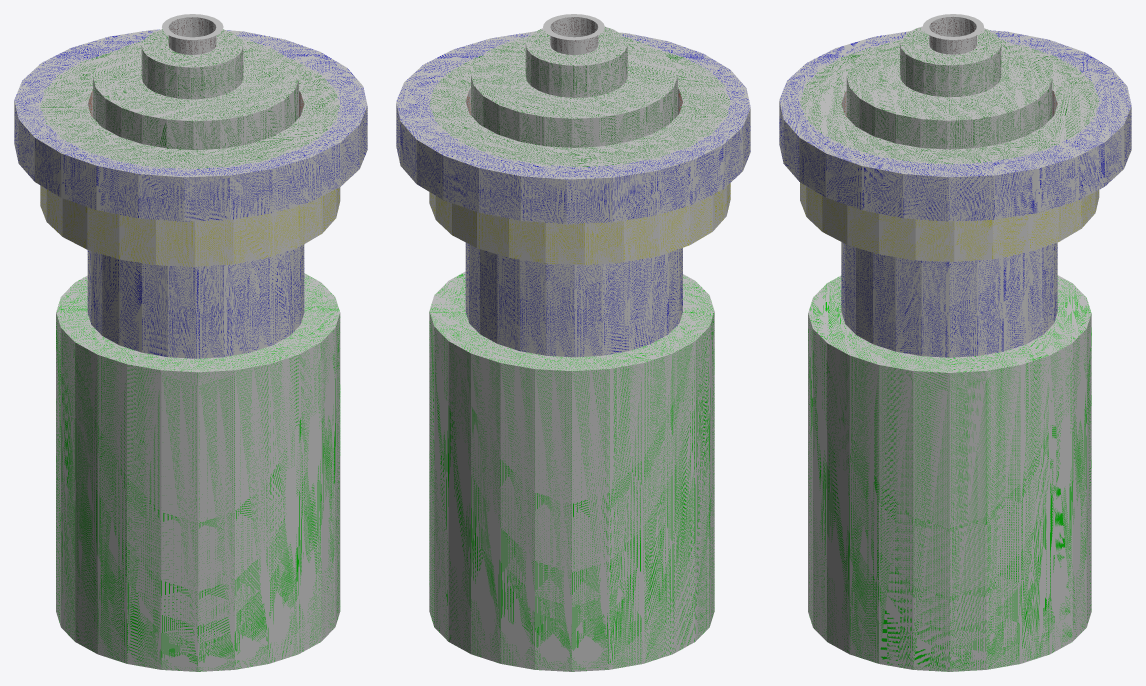
3 views of the same model, side by side, from view 1: azimuth 30°, elevation 25°; view 2: azimuth 150°, elevation 25°; view 3: azimuth 270°, elevation 25° (orthographic).
Visible parts, largest first — view 1: mesh1_mesh1-geometry, mesh2_mesh2-geometry; view 2: mesh1_mesh1-geometry, mesh2_mesh2-geometry; view 3: mesh1_mesh1-geometry, mesh2_mesh2-geometry.
Boxes of the visible parts, x1=… form: mesh1_mesh1-geometry: x1=14, y1=29, x2=367, y2=671; mesh2_mesh2-geometry: x1=93, y1=14, x2=298, y2=149; mesh1_mesh1-geometry: x1=396, y1=31, x2=750, y2=671; mesh2_mesh2-geometry: x1=471, y1=14, x2=677, y2=147; mesh1_mesh1-geometry: x1=779, y1=30, x2=1131, y2=671; mesh2_mesh2-geometry: x1=846, y1=14, x2=1052, y2=149.
Bounding box in the file's own units: 0.433 × 0.7906 × 0.433.
